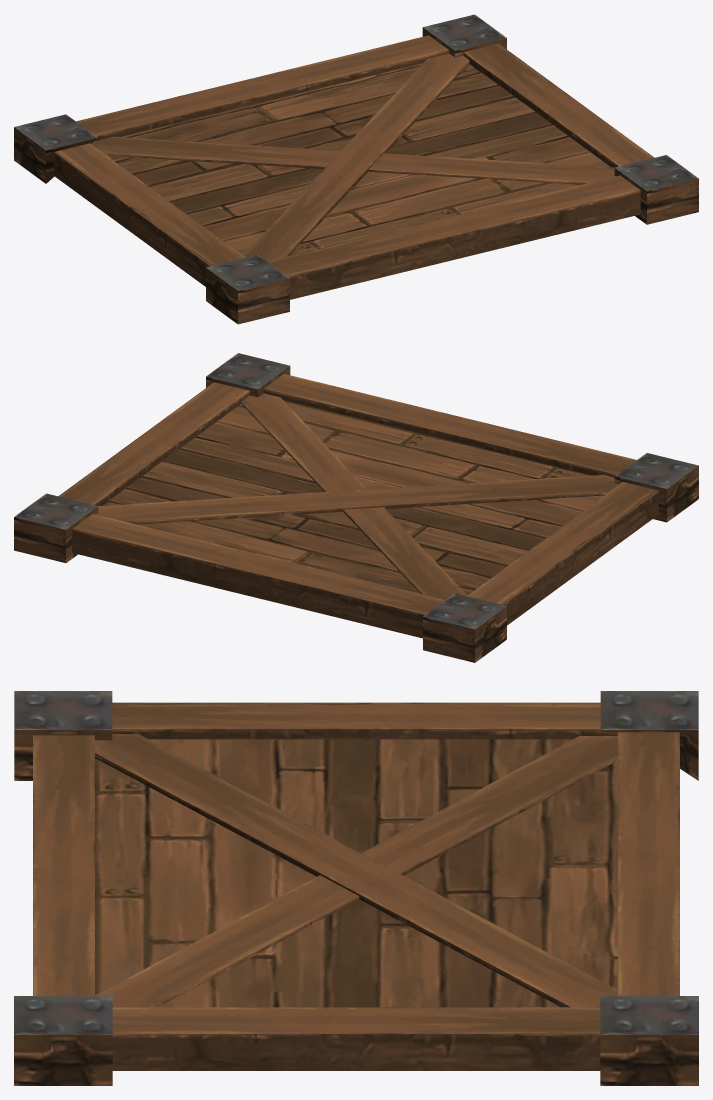
Rendered from anmaodao_wujian11.FBX.
3 views of the same model, one above another, from view 1: azimuth 30°, elevation 25°; view 2: azimuth 150°, elevation 25°; view 3: azimuth 270°, elevation 25° (orthographic). The views are drawn at different scales.
Visible parts, largest first — view 1: anmaodao_wujian11; view 2: anmaodao_wujian11; view 3: anmaodao_wujian11.
Boxes of the visible parts, x1,y1,x2,y2 form: anmaodao_wujian11: (14, 14, 698, 324); anmaodao_wujian11: (14, 353, 698, 662); anmaodao_wujian11: (14, 691, 698, 1085).
Bounding box in the file's own units: 996 × 839 × 69.32.
